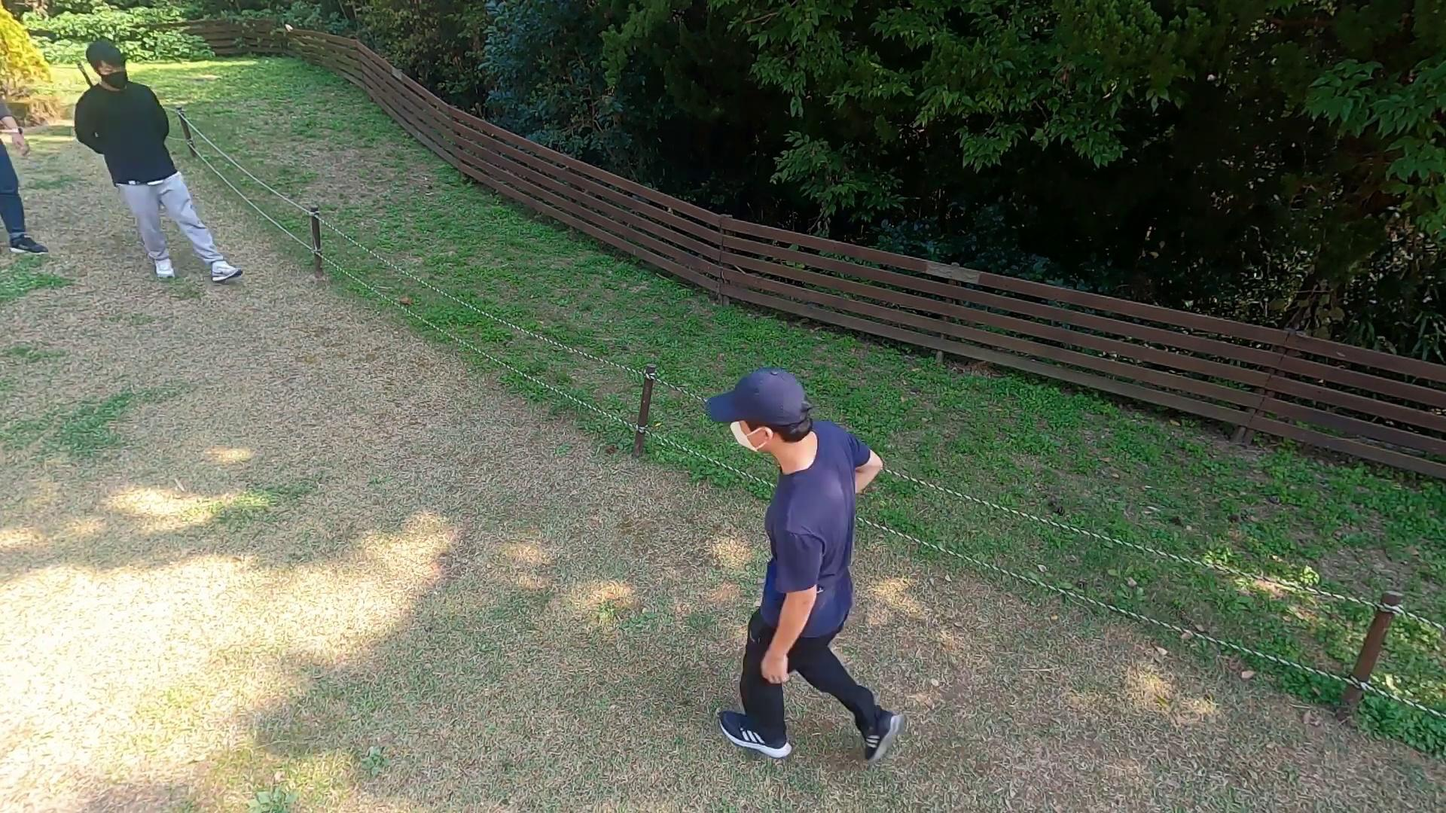person: (693, 366, 908, 766), (59, 35, 248, 289)
